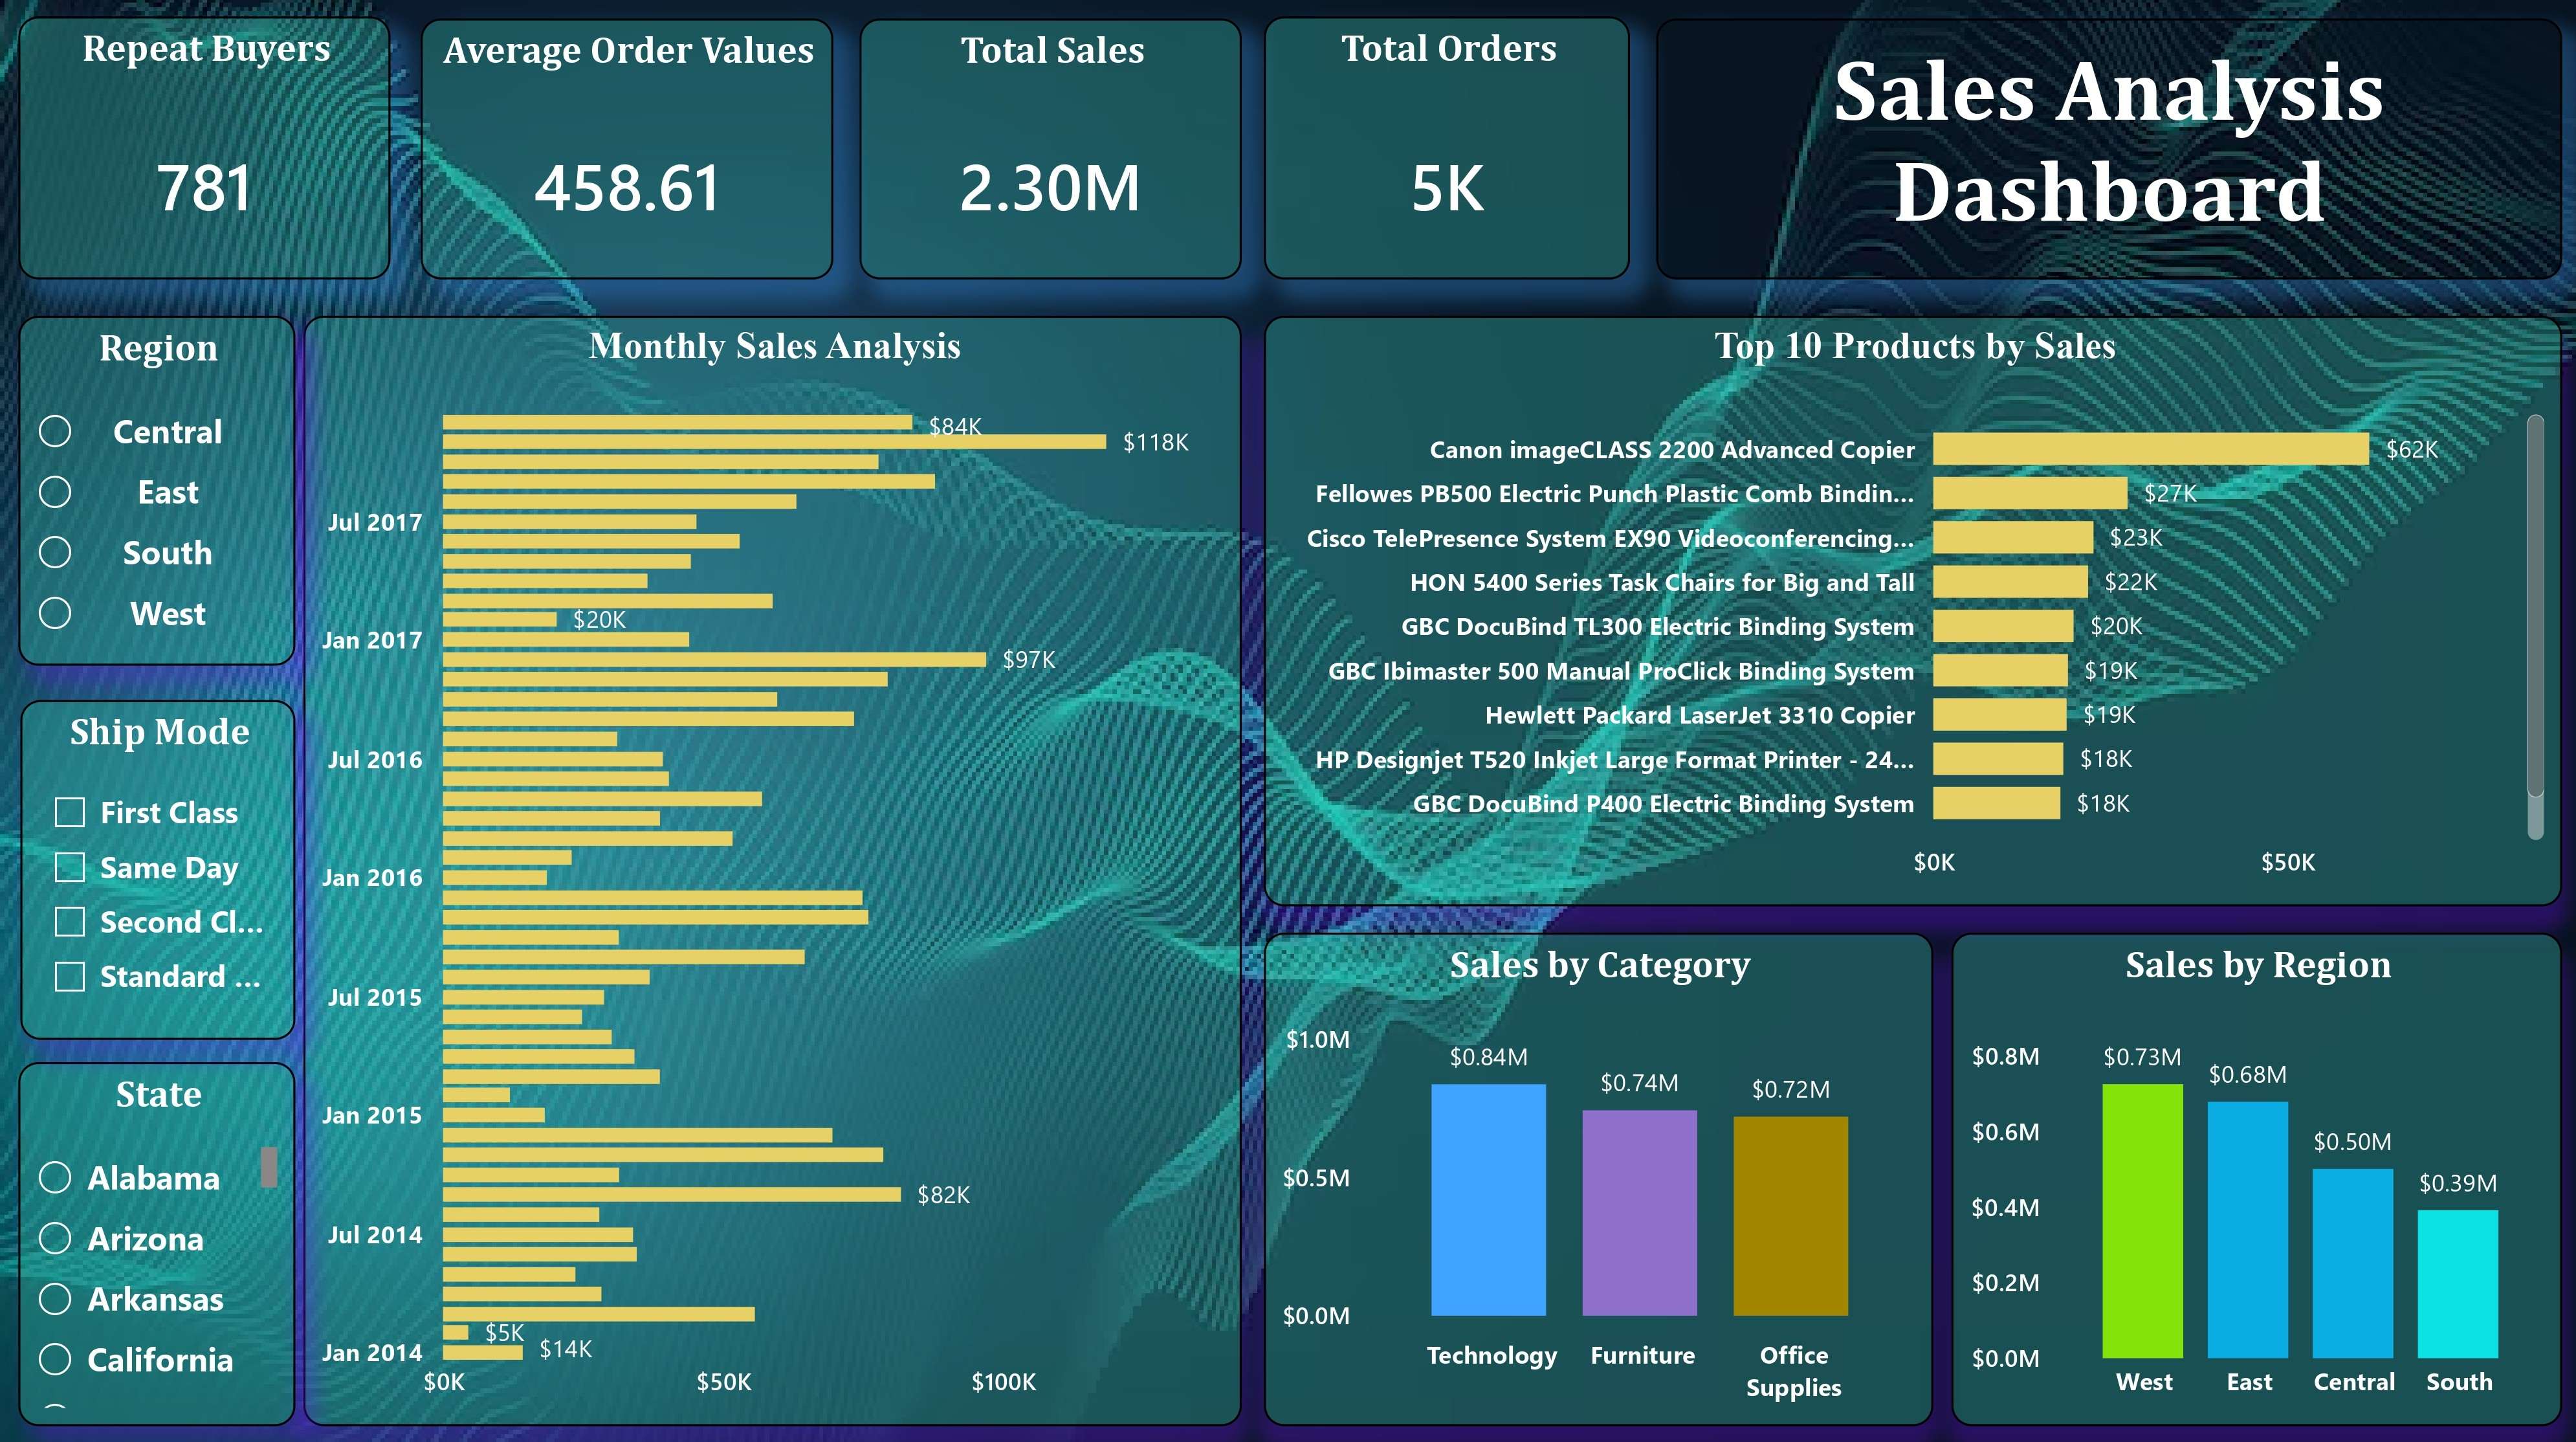

Layout of this report page (visuals, bound fields, positions):
{"tool":"powerbi","page":{"name":"Sales Analysis dashboard","canvas":[1280,720],"ordinal":0},"visuals":[{"type":"cardVisual","title":"Total Sales","fields":{"Data":["Sample - Superstore.Total Sales"]},"box":[426.8,12.3,189.4,129],"z":0},{"type":"cardVisual","title":"Total Orders","fields":{"Data":["Sample - Superstore.Total Orders"]},"box":[627.1,11,181.1,130.4],"z":1000},{"type":"cardVisual","title":"Average Order Values","fields":{"Data":["Sample - Superstore.Average Order Value"]},"box":[209.9,12.3,204.5,129],"z":2000},{"type":"clusteredBarChart","title":"Monthly Sales Analysis","fields":{"Y":["Sum(Sample - Superstore.Sales)"],"Category":["Sample - Superstore.Month Year"]},"box":[152.3,159.2,463.8,548.9],"z":4000},{"type":"clusteredBarChart","title":"Top 10 Products by Sales","fields":{"Category":["Sample - Superstore.Product Name"],"Y":["Sum(Sample - Superstore.Sales)"]},"box":[627.1,159.2,642.2,292.3],"z":5000},{"type":"cardVisual","title":"Repeat Buyers","fields":{"Data":["Sample - Superstore.Repeat Buyers"]},"box":[11,11,183.9,130.4],"z":6000},{"type":"clusteredColumnChart","title":"Sales by Category","fields":{"Category":["Sample - Superstore.Category"],"Y":["Sum(Sample - Superstore.Sales)"]},"box":[627.1,463.8,330.7,244.3],"z":7000},{"type":"listSlicer","fields":{"Values":["Sample - Superstore.Region"]},"box":[11,159.2,137.2,172.9],"z":8000},{"type":"textbox","box":[820.6,12.3,448.7,129],"z":9000},{"type":"listSlicer","fields":{"Values":["Sample - Superstore.State"]},"box":[11,528.3,137.2,179.8],"z":10000},{"type":"slicer","title":"Ship Mode","fields":{"Values":["Sample - Superstore.Ship Mode"]},"box":[12.3,348.5,135.8,168.8],"z":11000},{"type":"clusteredColumnChart","title":"Sales by Region","fields":{"Category":["Sample - Superstore.Region"],"Y":["Sum(Sample - Superstore.Sales)"]},"box":[967.4,463.8,301.9,244.3],"z":11001}]}

Visuals, with their boxes in screenshot pixels (x1, y1, x2, y2), scaled from the page's 1280x720 canvas onto the 2576x1442 screenshot:
"Total Sales" cardVisual: 859/25/1240/283
"Total Orders" cardVisual: 1262/22/1627/283
"Average Order Values" cardVisual: 423/25/834/283
"Monthly Sales Analysis" clusteredBarChart: 307/319/1240/1418
"Top 10 Products by Sales" clusteredBarChart: 1262/319/2555/904
"Repeat Buyers" cardVisual: 22/22/392/283
"Sales by Category" clusteredColumnChart: 1262/929/1928/1418
listSlicer - Sample - Superstore.Region: 22/319/298/665
textbox: 1651/25/2555/283
listSlicer - Sample - Superstore.State: 22/1058/298/1418
"Ship Mode" slicer: 25/698/298/1036
"Sales by Region" clusteredColumnChart: 1947/929/2555/1418
